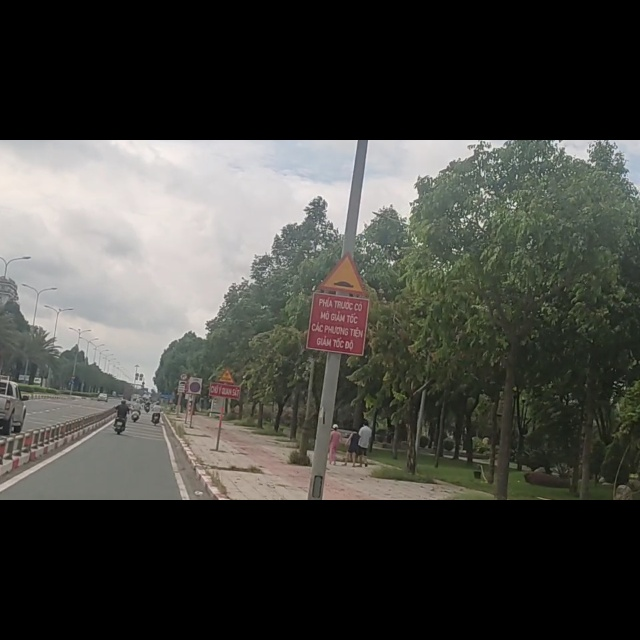bien_cam: (315, 198, 373, 277), (217, 405, 236, 435), (188, 421, 203, 454), (178, 415, 189, 427)
